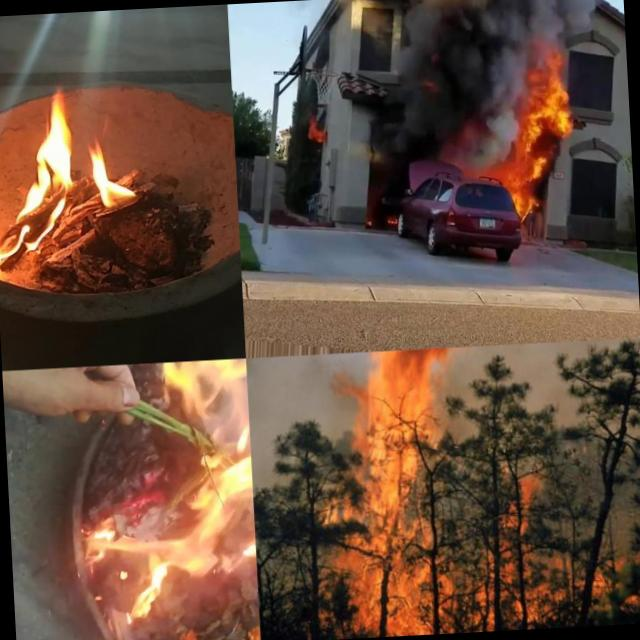fire: (340, 348, 463, 638), (0, 74, 78, 268), (506, 54, 580, 220), (179, 582, 258, 640), (86, 134, 138, 217)
smoke: (391, 0, 511, 174), (168, 392, 255, 584), (501, 0, 609, 59)
